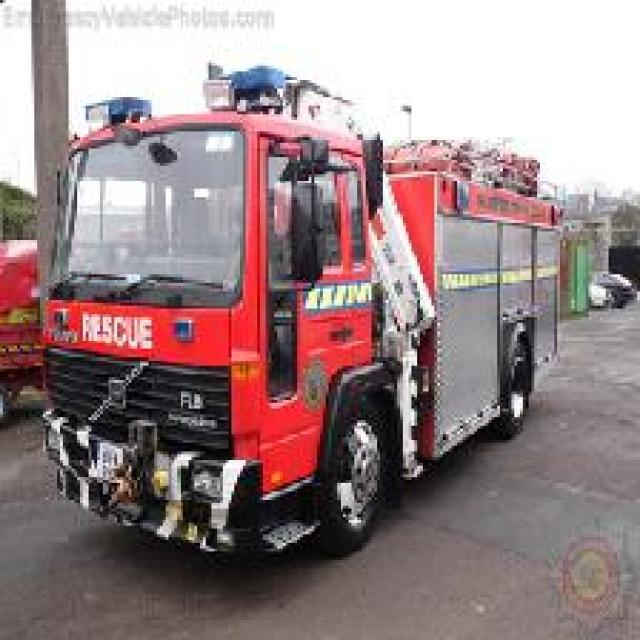Car: (586, 272, 637, 308)
Fire-truck: (34, 60, 563, 563)
